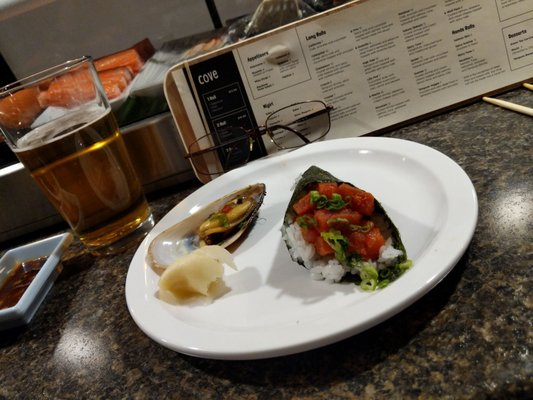pizza: (0, 57, 156, 249)
